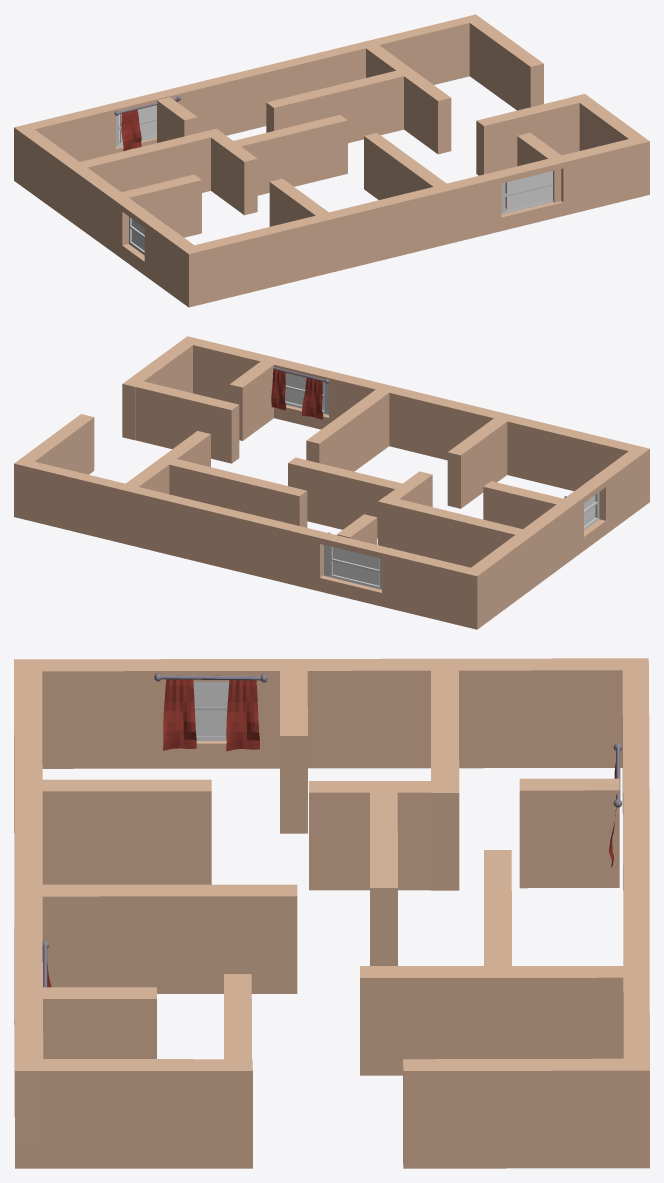
Rendered from Level 12.fbx.
3 renders of one model, top to bottom at view 1: azimuth 30°, elevation 25°; view 2: azimuth 150°, elevation 25°; view 3: azimuth 270°, elevation 25°, orthographic. The views are drawn at different scales.
Visible parts, largest first — view 1: polySurface84, pasted__wind1, polySurface50, pasted__pasted__clowt1; view 2: polySurface84, pasted__wind1, polySurface50, pasted__pasted__clowt1; view 3: polySurface84, pasted__pasted__clowt1.
Boxes of the visible parts, bbox=[...] form: polySurface84: bbox=[14, 14, 649, 307]; pasted__wind1: bbox=[501, 171, 553, 214]; polySurface50: bbox=[114, 96, 181, 151]; pasted__pasted__clowt1: bbox=[128, 201, 166, 254]; polySurface84: bbox=[14, 336, 649, 629]; pasted__wind1: bbox=[271, 367, 329, 419]; polySurface50: bbox=[324, 532, 392, 589]; pasted__pasted__clowt1: bbox=[564, 474, 599, 530]; polySurface84: bbox=[14, 658, 649, 1168]; pasted__pasted__clowt1: bbox=[154, 673, 267, 751].
Size of the model in its own units: 154 by 16.93 by 99.98.
